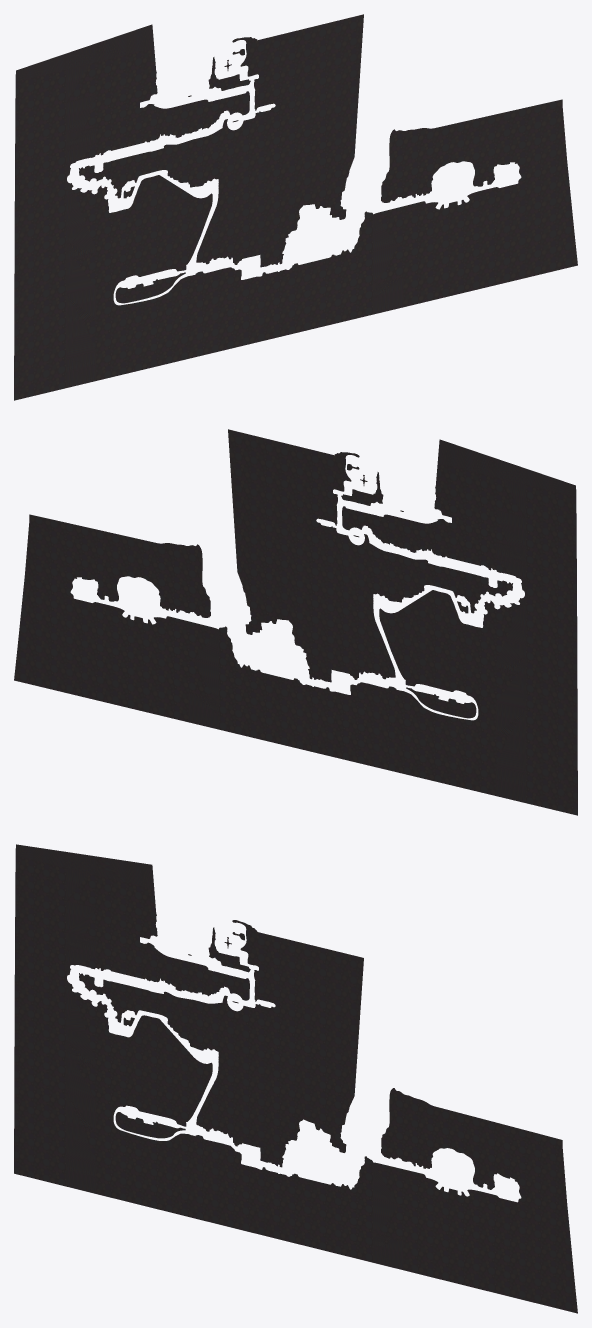
The model's file is nightmare02.glb.
The picture shows the model from 3 angles, top to bottom: view 1: azimuth 30°, elevation 25°; view 2: azimuth 150°, elevation 25°; view 3: azimuth 330°, elevation 25°; orthographic projection.
Parts seen in each view (by area): view 1: nightmare02; view 2: nightmare02; view 3: nightmare02.
Part boxes in pixels (box(x1,y1,x2,y2)): nightmare02: box(14, 14, 577, 400); nightmare02: box(14, 429, 577, 815); nightmare02: box(14, 844, 577, 1313).
Size of the model in its own units: 7346 by 4294 by 0.
Materials: 1 (1 with a texture image).
